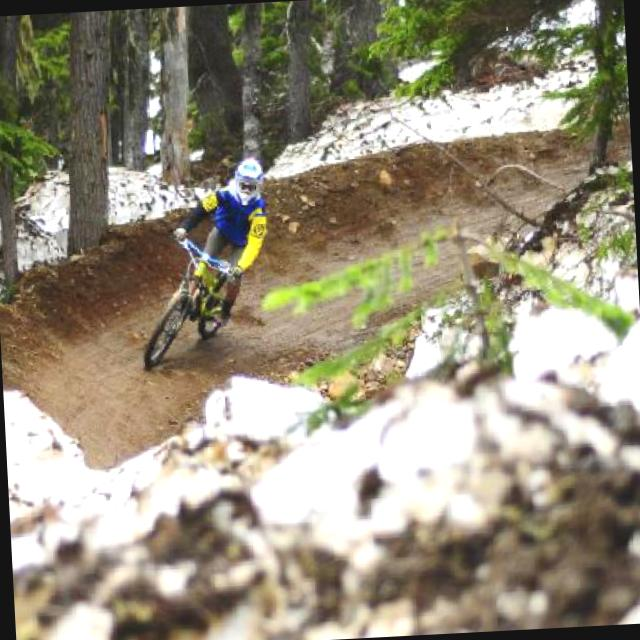Person: (169, 155, 278, 338)
